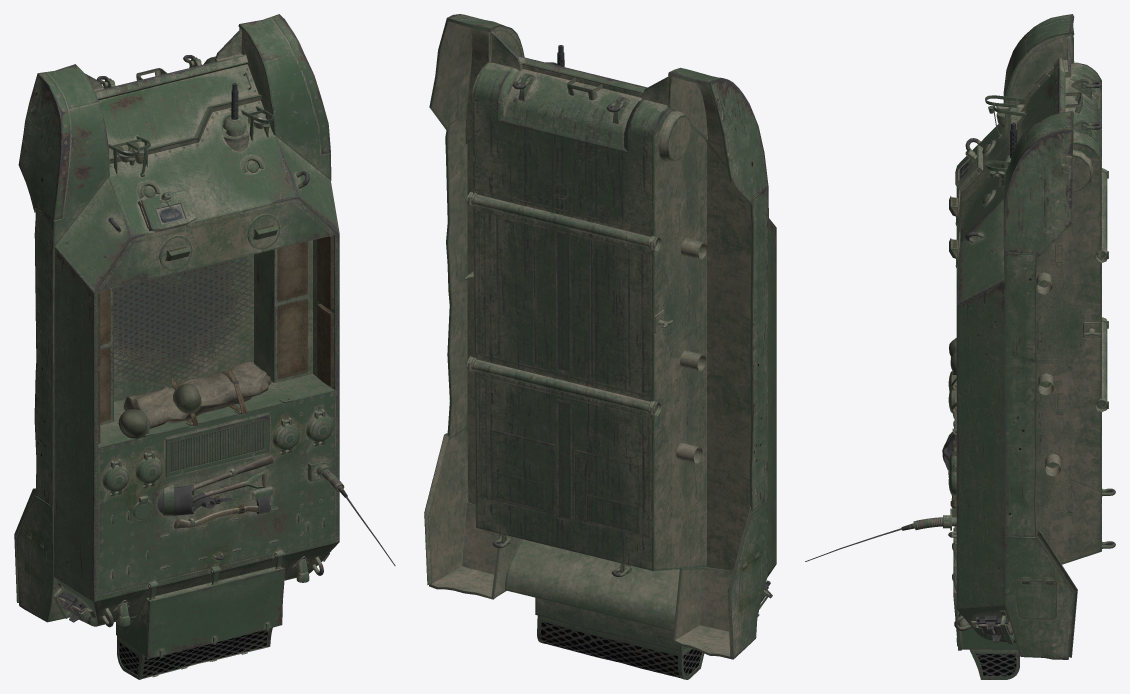
The model's file is Hull.glb.
3 renders of one model, left to right at view 1: azimuth 30°, elevation 25°; view 2: azimuth 150°, elevation 25°; view 3: azimuth 270°, elevation 25°, orthographic. The views are drawn at different scales.
Visible parts, largest first — view 1: set_0_group_0; view 2: set_0_group_0; view 3: set_0_group_0.
Part boxes in pixels (x1,y1,x2,y2): set_0_group_0: [14, 14, 395, 679]; set_0_group_0: [424, 14, 776, 679]; set_0_group_0: [805, 14, 1115, 679].
Size of the model in its own units: 2.54 by 5.04 by 2.45.
1 material, 1 textured.
